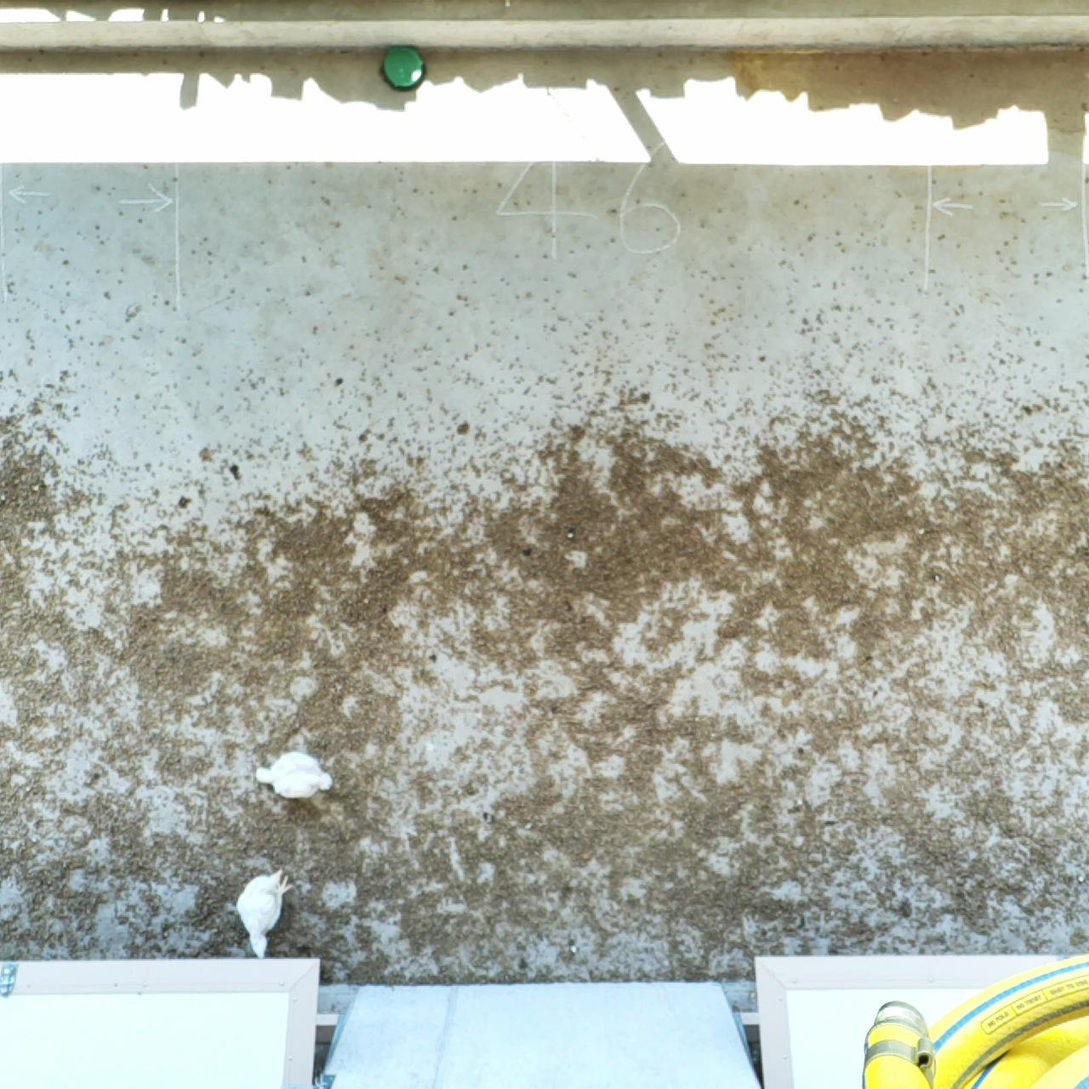chicken: (234, 862, 293, 961), (253, 749, 336, 803)
